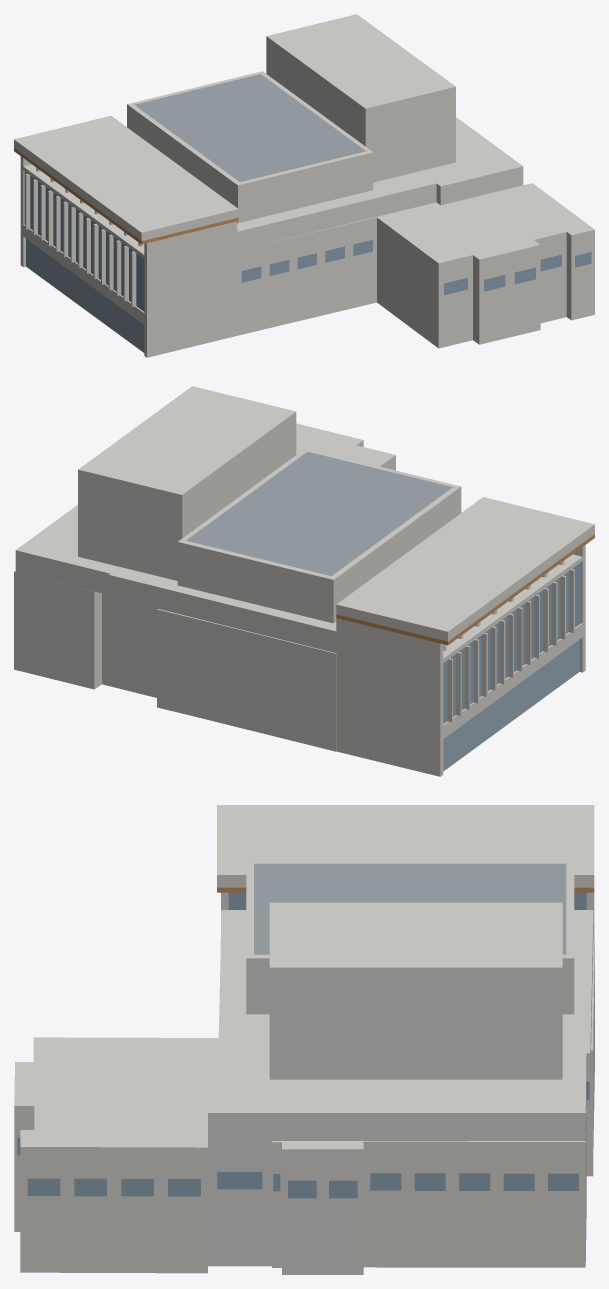
File: slc-eccles-theater.glb
3 views of the same model, one above another, from view 1: azimuth 30°, elevation 25°; view 2: azimuth 150°, elevation 25°; view 3: azimuth 270°, elevation 25° (orthographic). The views are drawn at different scales.
Parts seen in each view (by area): view 1: Eccles Theater; view 2: Eccles Theater; view 3: Eccles Theater.
Part boxes in pixels (x1,y1,x2,y2): Eccles Theater: [14, 14, 594, 357]; Eccles Theater: [14, 386, 594, 776]; Eccles Theater: [14, 805, 594, 1274].
Size of the model in its own units: 86.35 by 38 by 75.34.
